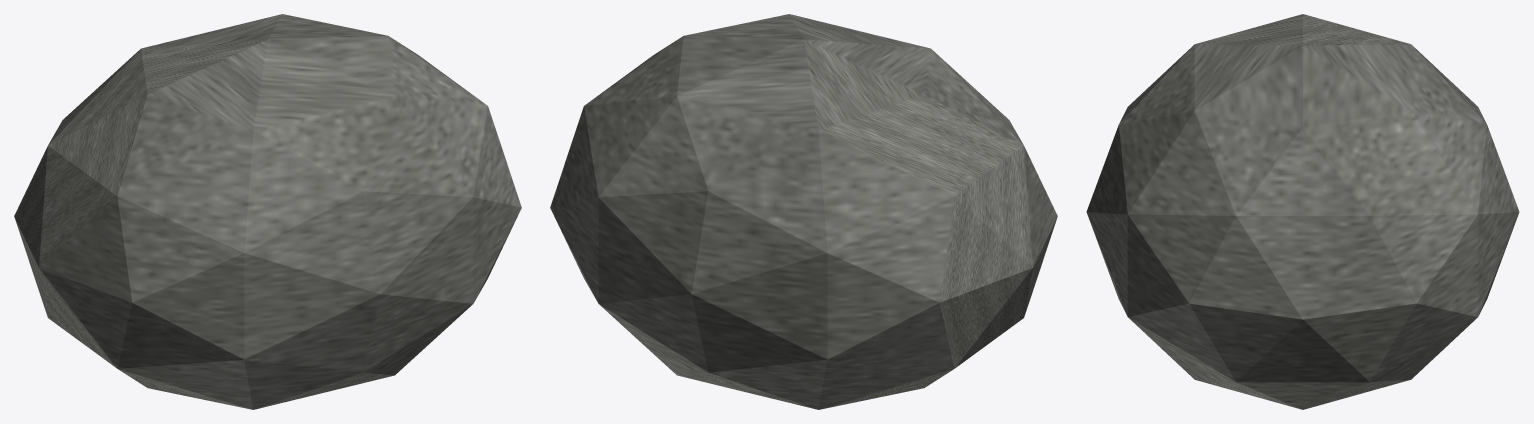
Rendered from wildlight_rock_textured.glb.
The picture shows the model from 3 angles, left to right: view 1: azimuth 30°, elevation 25°; view 2: azimuth 150°, elevation 25°; view 3: azimuth 270°, elevation 25°; orthographic projection. The views are drawn at different scales.
Visible parts, largest first — view 1: textured_irregular_rock; view 2: textured_irregular_rock; view 3: textured_irregular_rock.
Boxes of the visible parts, x1,y1,x2,y2 form: textured_irregular_rock: (14,14,521,409); textured_irregular_rock: (550,14,1057,409); textured_irregular_rock: (1086,14,1519,409).
Size of the model in its own units: 2 by 1.44 by 1.7.
1 material, 1 textured.
